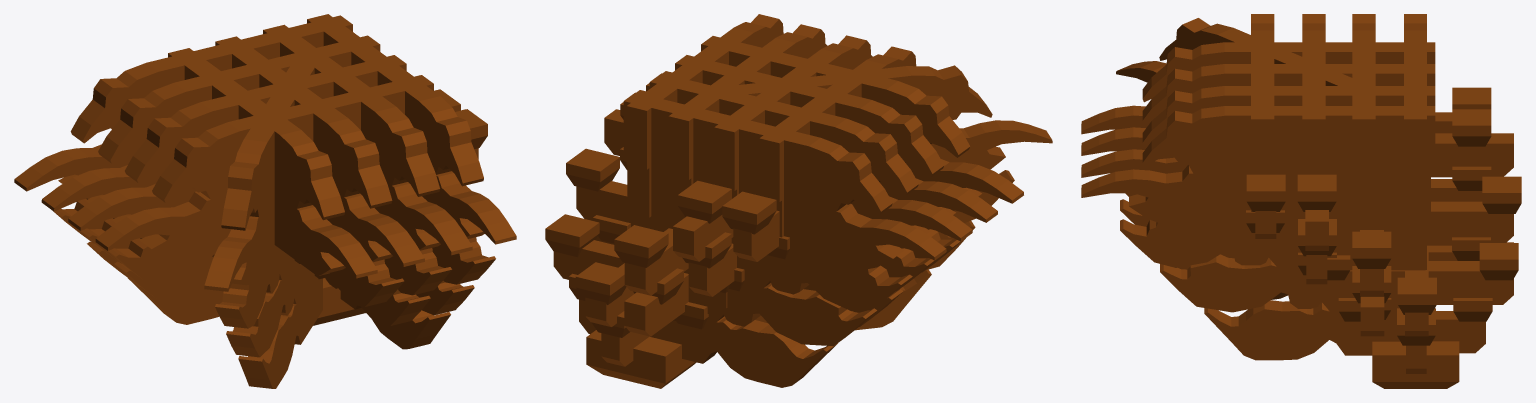
Rendered from SM_Sun_Dae_Gongpo_B.fbx.
The picture shows the model from 3 angles, left to right: view 1: azimuth 30°, elevation 25°; view 2: azimuth 150°, elevation 25°; view 3: azimuth 270°, elevation 25°; orthographic projection. The views are drawn at different scales.
Visible parts, largest first — view 1: SM_Sun_Dae_Gongpo_B; view 2: SM_Sun_Dae_Gongpo_B; view 3: SM_Sun_Dae_Gongpo_B.
Part boxes in pixels (bbox=[...]): SM_Sun_Dae_Gongpo_B: bbox=[14, 14, 516, 388]; SM_Sun_Dae_Gongpo_B: bbox=[545, 14, 1052, 388]; SM_Sun_Dae_Gongpo_B: bbox=[1081, 14, 1521, 388].
Size of the model in its own units: 202 by 134 by 202.
